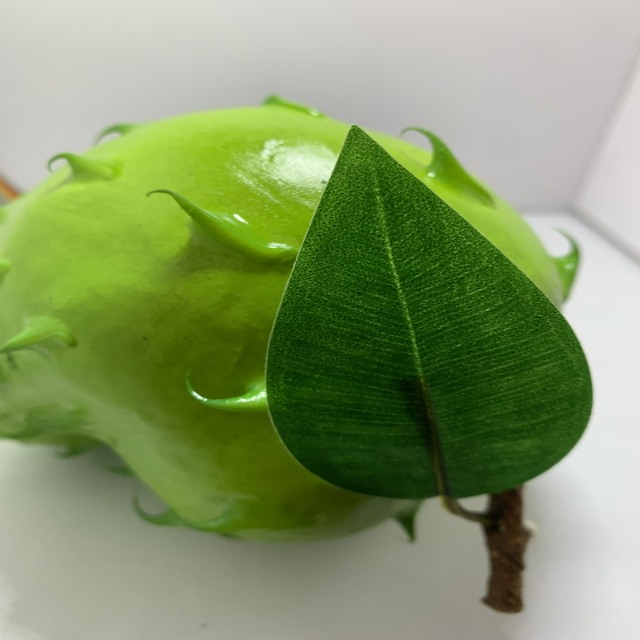Man cau: (0, 93, 585, 559)
